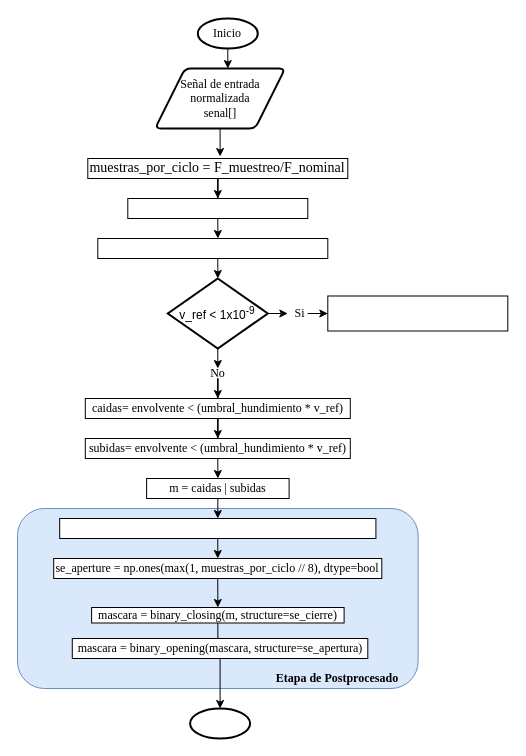
This 526x756 diagram has some shape labels left out. The shapes that lost their labels are listed below. From the top down, each one's centre as x and y in pixels, then its label:
[217,208]: envolvente = np.abs(hilbert(senal))
[212,248]: v_ref = np.percentile(envolvente,percentil_ref)
[417,313]: retornamos una arreglo de ceros del tamaño de la envolvente
[217,528]: se_cierre = np.ones(max(1, muestras_por_ciclo // 4), dtype=bool
[220,723]: Fin
